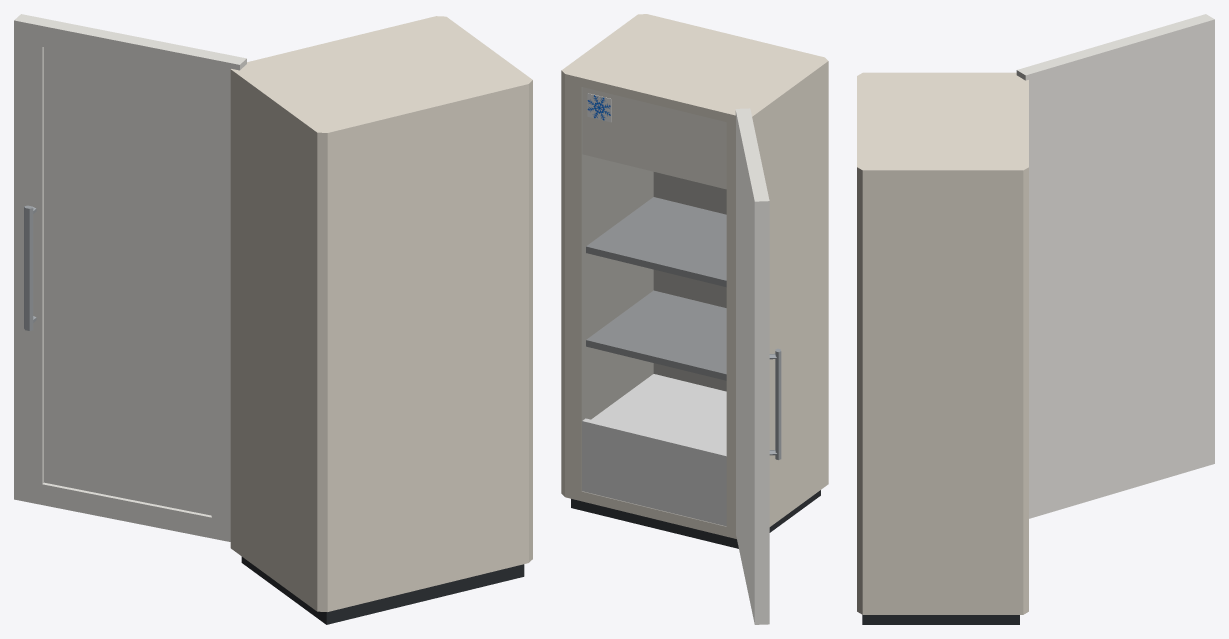
File: Fridge import.fbx
3 views of the same model, side by side, from view 1: azimuth 30°, elevation 25°; view 2: azimuth 150°, elevation 25°; view 3: azimuth 270°, elevation 25° (orthographic). The views are drawn at different scales.
Parts seen in each view (by area): view 1: Cuerpo heladera, Puerta heladera, Separador de piso; view 2: Cuerpo heladera, Puerta heladera, Cajon puerta, Freezer puerta, Estante medio, Estante abajo, Cajon/Estante, Separador de piso, Icono copo de nieve; view 3: Cuerpo heladera, Puerta heladera, Separador de piso.
Part boxes in pixels (bbox=[...]): Cuerpo heladera: bbox=[230, 16, 532, 611]; Puerta heladera: bbox=[14, 14, 246, 541]; Separador de piso: bbox=[241, 556, 524, 624]; Cuerpo heladera: bbox=[561, 14, 828, 538]; Puerta heladera: bbox=[735, 108, 781, 624]; Cajon puerta: bbox=[582, 418, 726, 526]; Freezer puerta: bbox=[582, 87, 726, 189]; Estante medio: bbox=[586, 197, 726, 287]; Estante abajo: bbox=[586, 290, 726, 380]; Cajon/Estante: bbox=[591, 374, 726, 452]; Separador de piso: bbox=[571, 490, 820, 548]; Icono copo de nieve: bbox=[587, 93, 611, 122]; Cuerpo heladera: bbox=[857, 72, 1028, 614]; Puerta heladera: bbox=[1016, 14, 1214, 518]; Separador de piso: bbox=[862, 615, 1019, 624].
Bounding box in the file's own units: 126 × 180 × 126.
8 materials, 6 textured.
